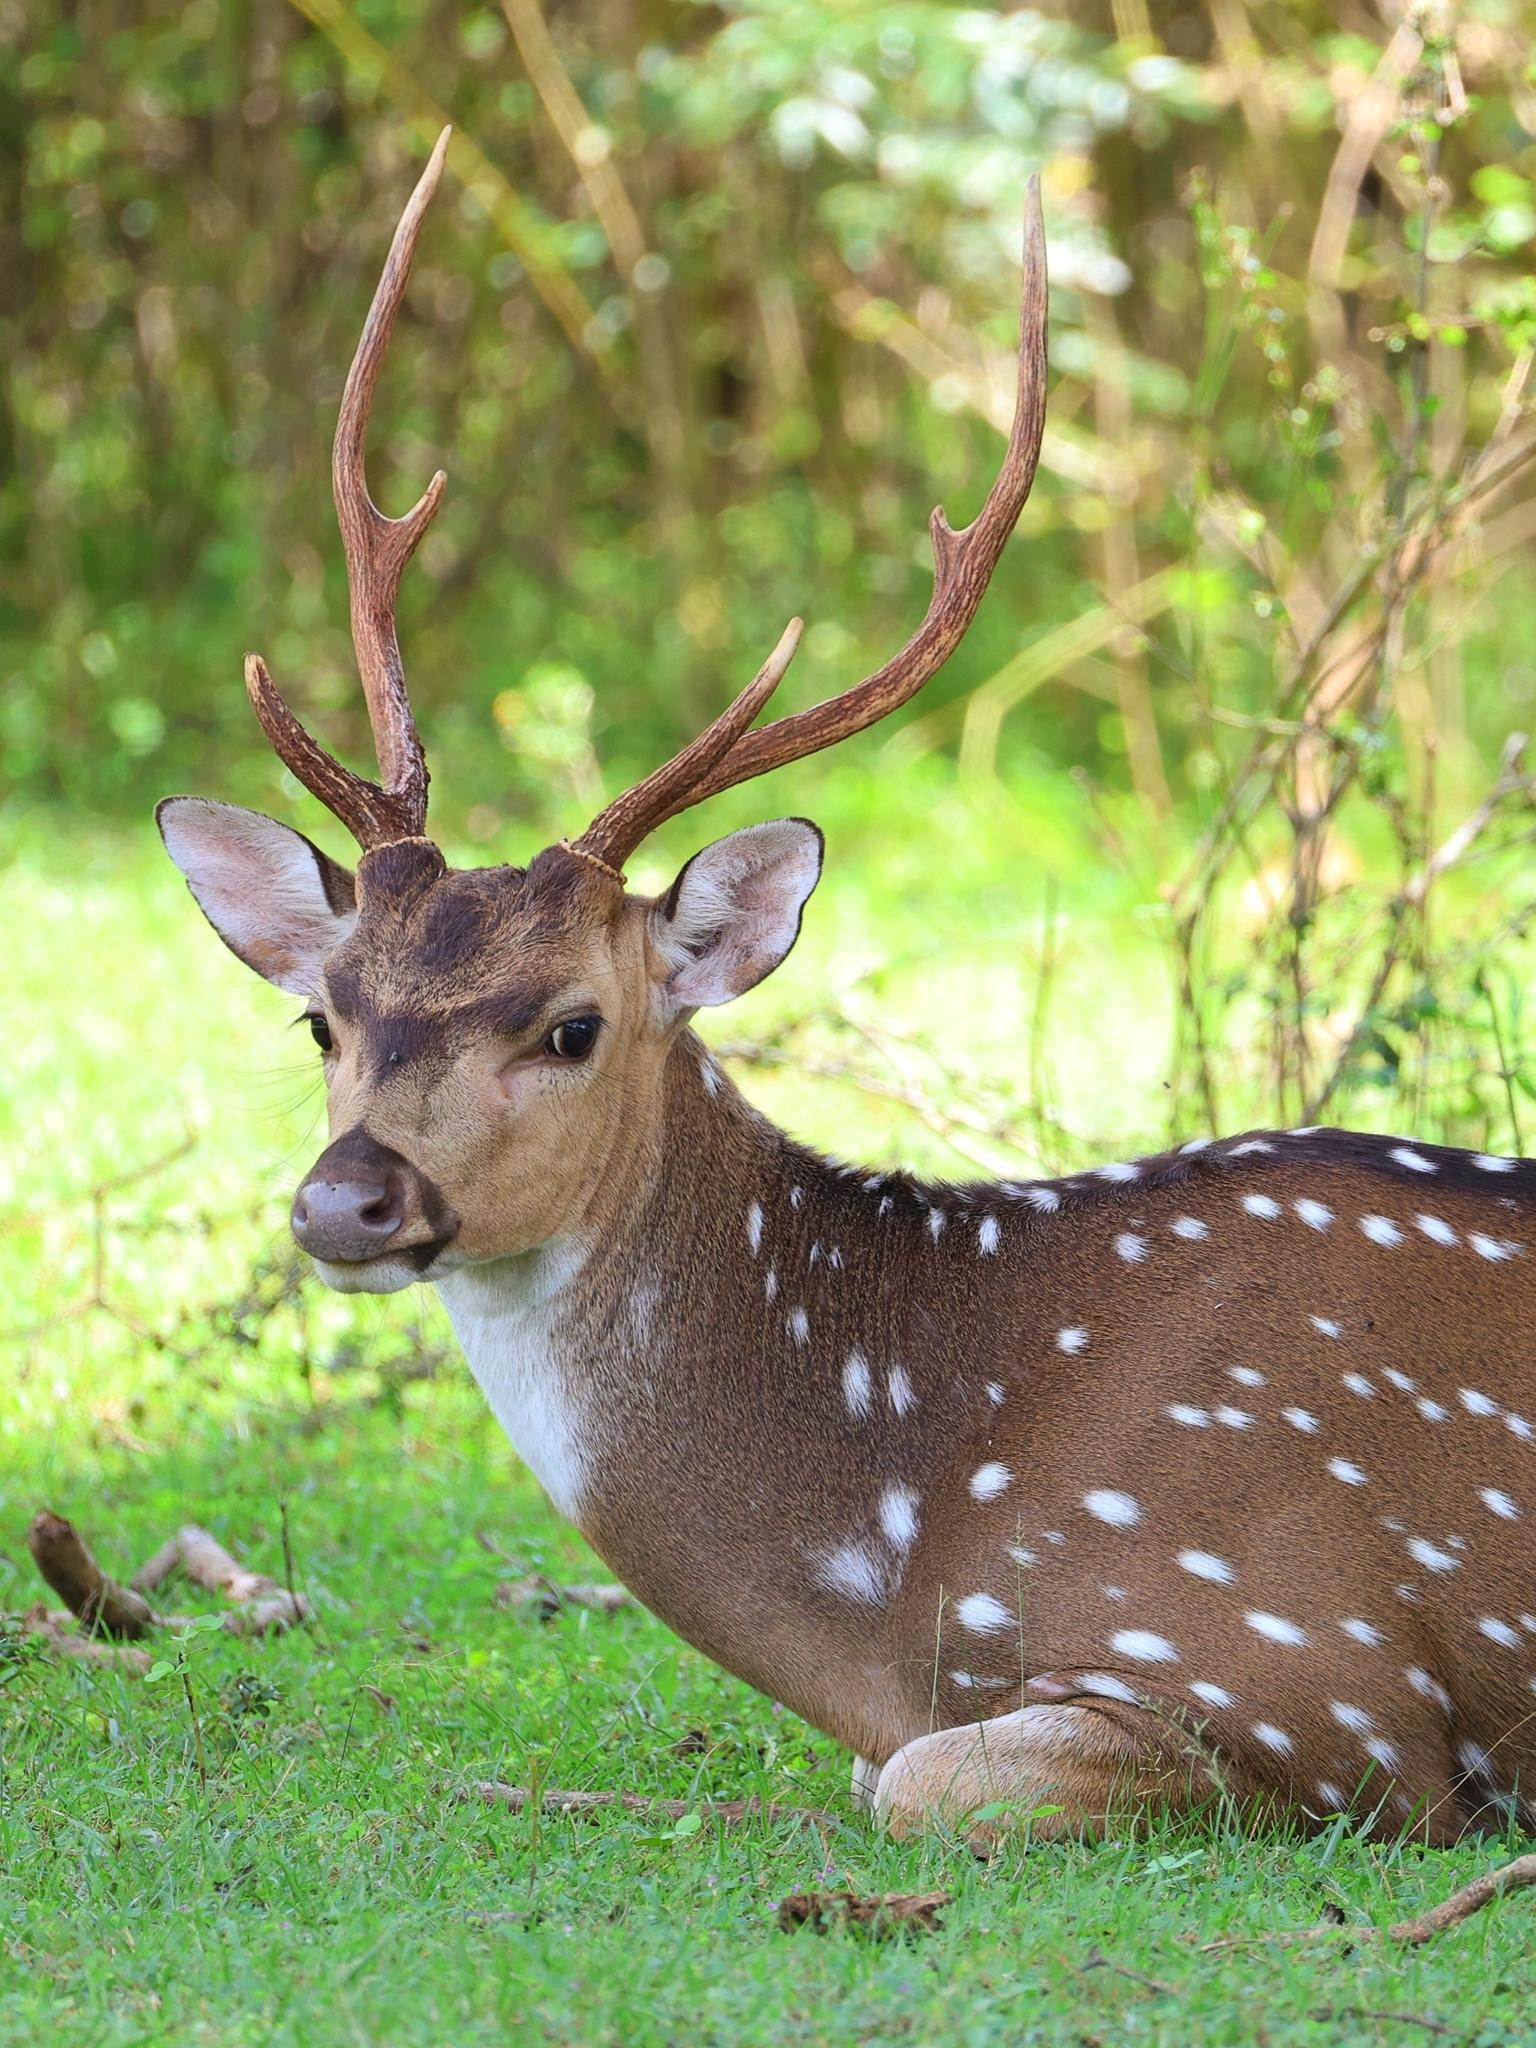Deer: (157, 142, 1534, 1842)
